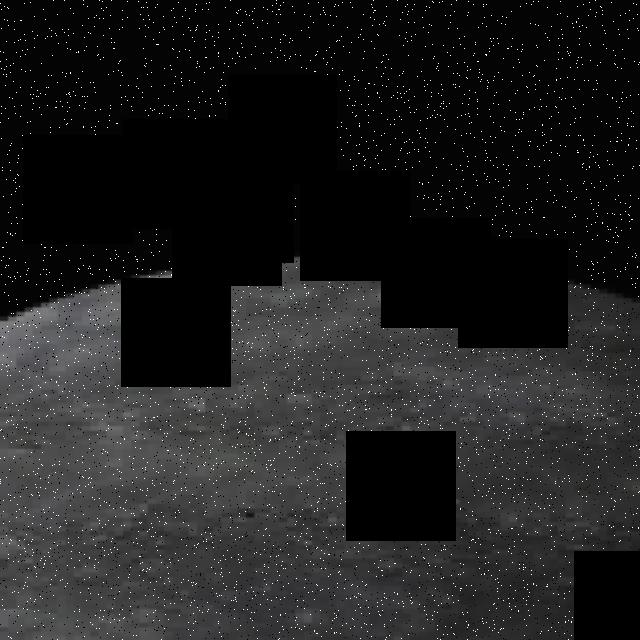Mercury: (0, 252, 640, 640)
